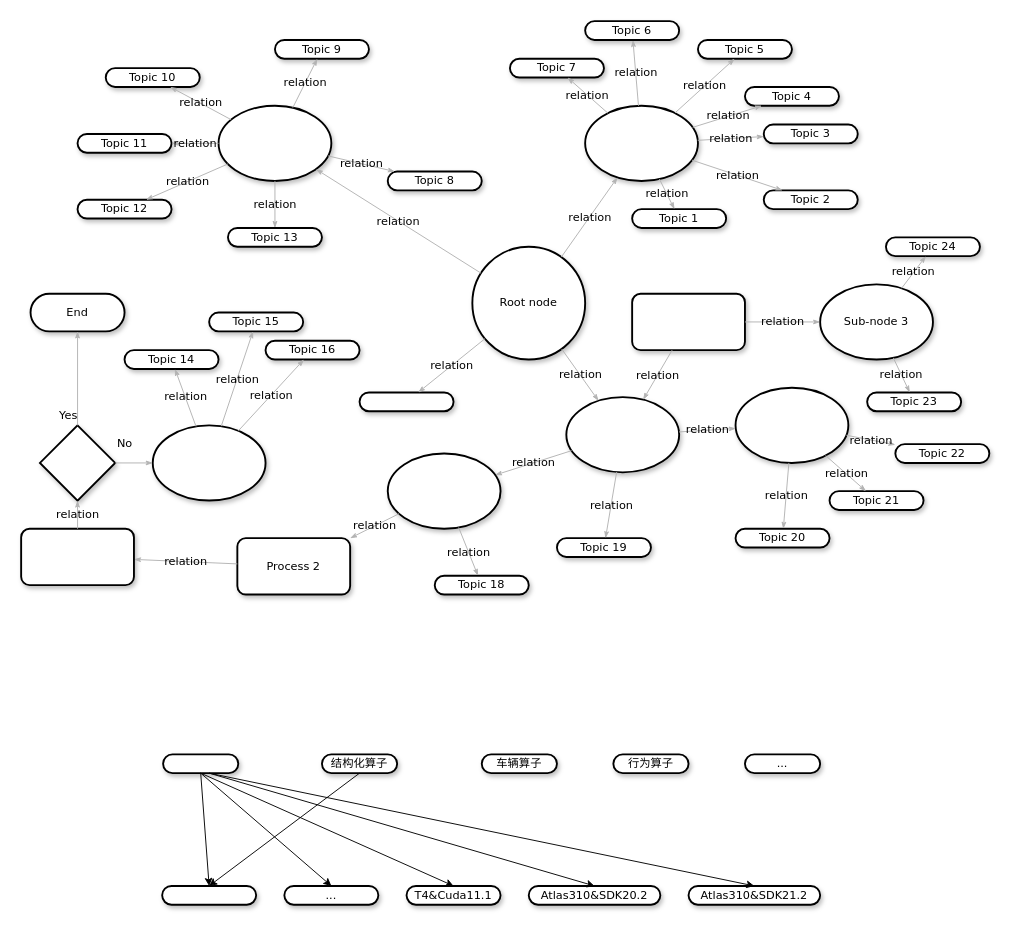
Image size: 1011x928. Some labels were removed from this diagram. Each missing label, with the centre of its shape:
Condition: (78,464)
P4&Cuda8.1: (209,896)
Process 1: (689,323)
Process 3: (78,558)
Sub-node 1: (275,144)
Sub-node 2: (642,144)
Sub-node 4: (792,426)
Sub-node 5: (623,435)
Sub-node 6: (445,492)
Sub-node 7: (210,464)
Topic 17: (407,402)
人脸算子: (201,764)
